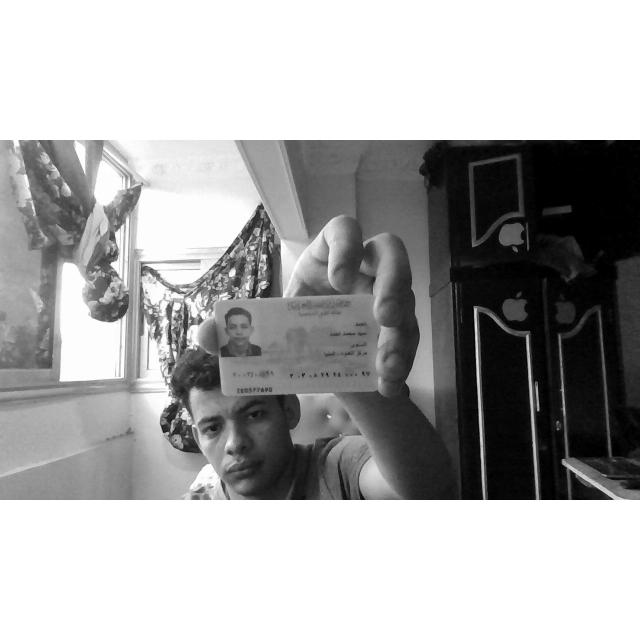id_card: (214, 294, 379, 396)
